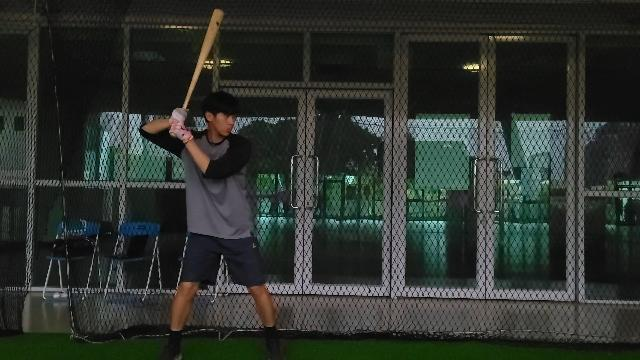bat: (181, 7, 225, 111)
